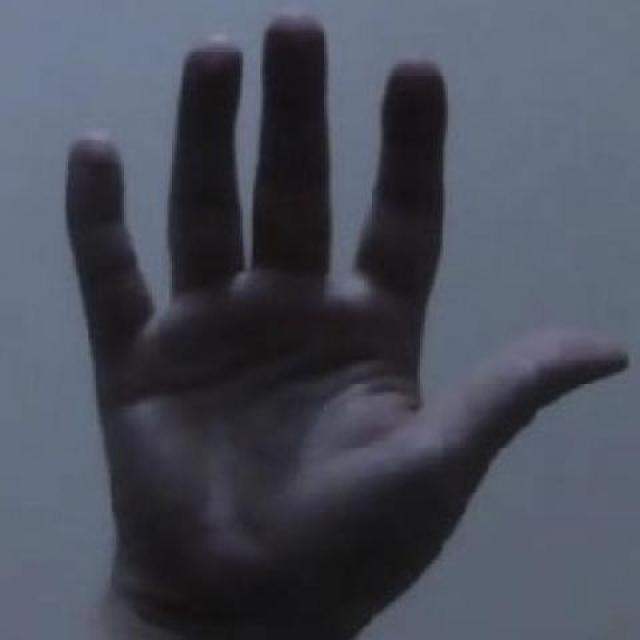Open Hand: (42, 2, 632, 640)
